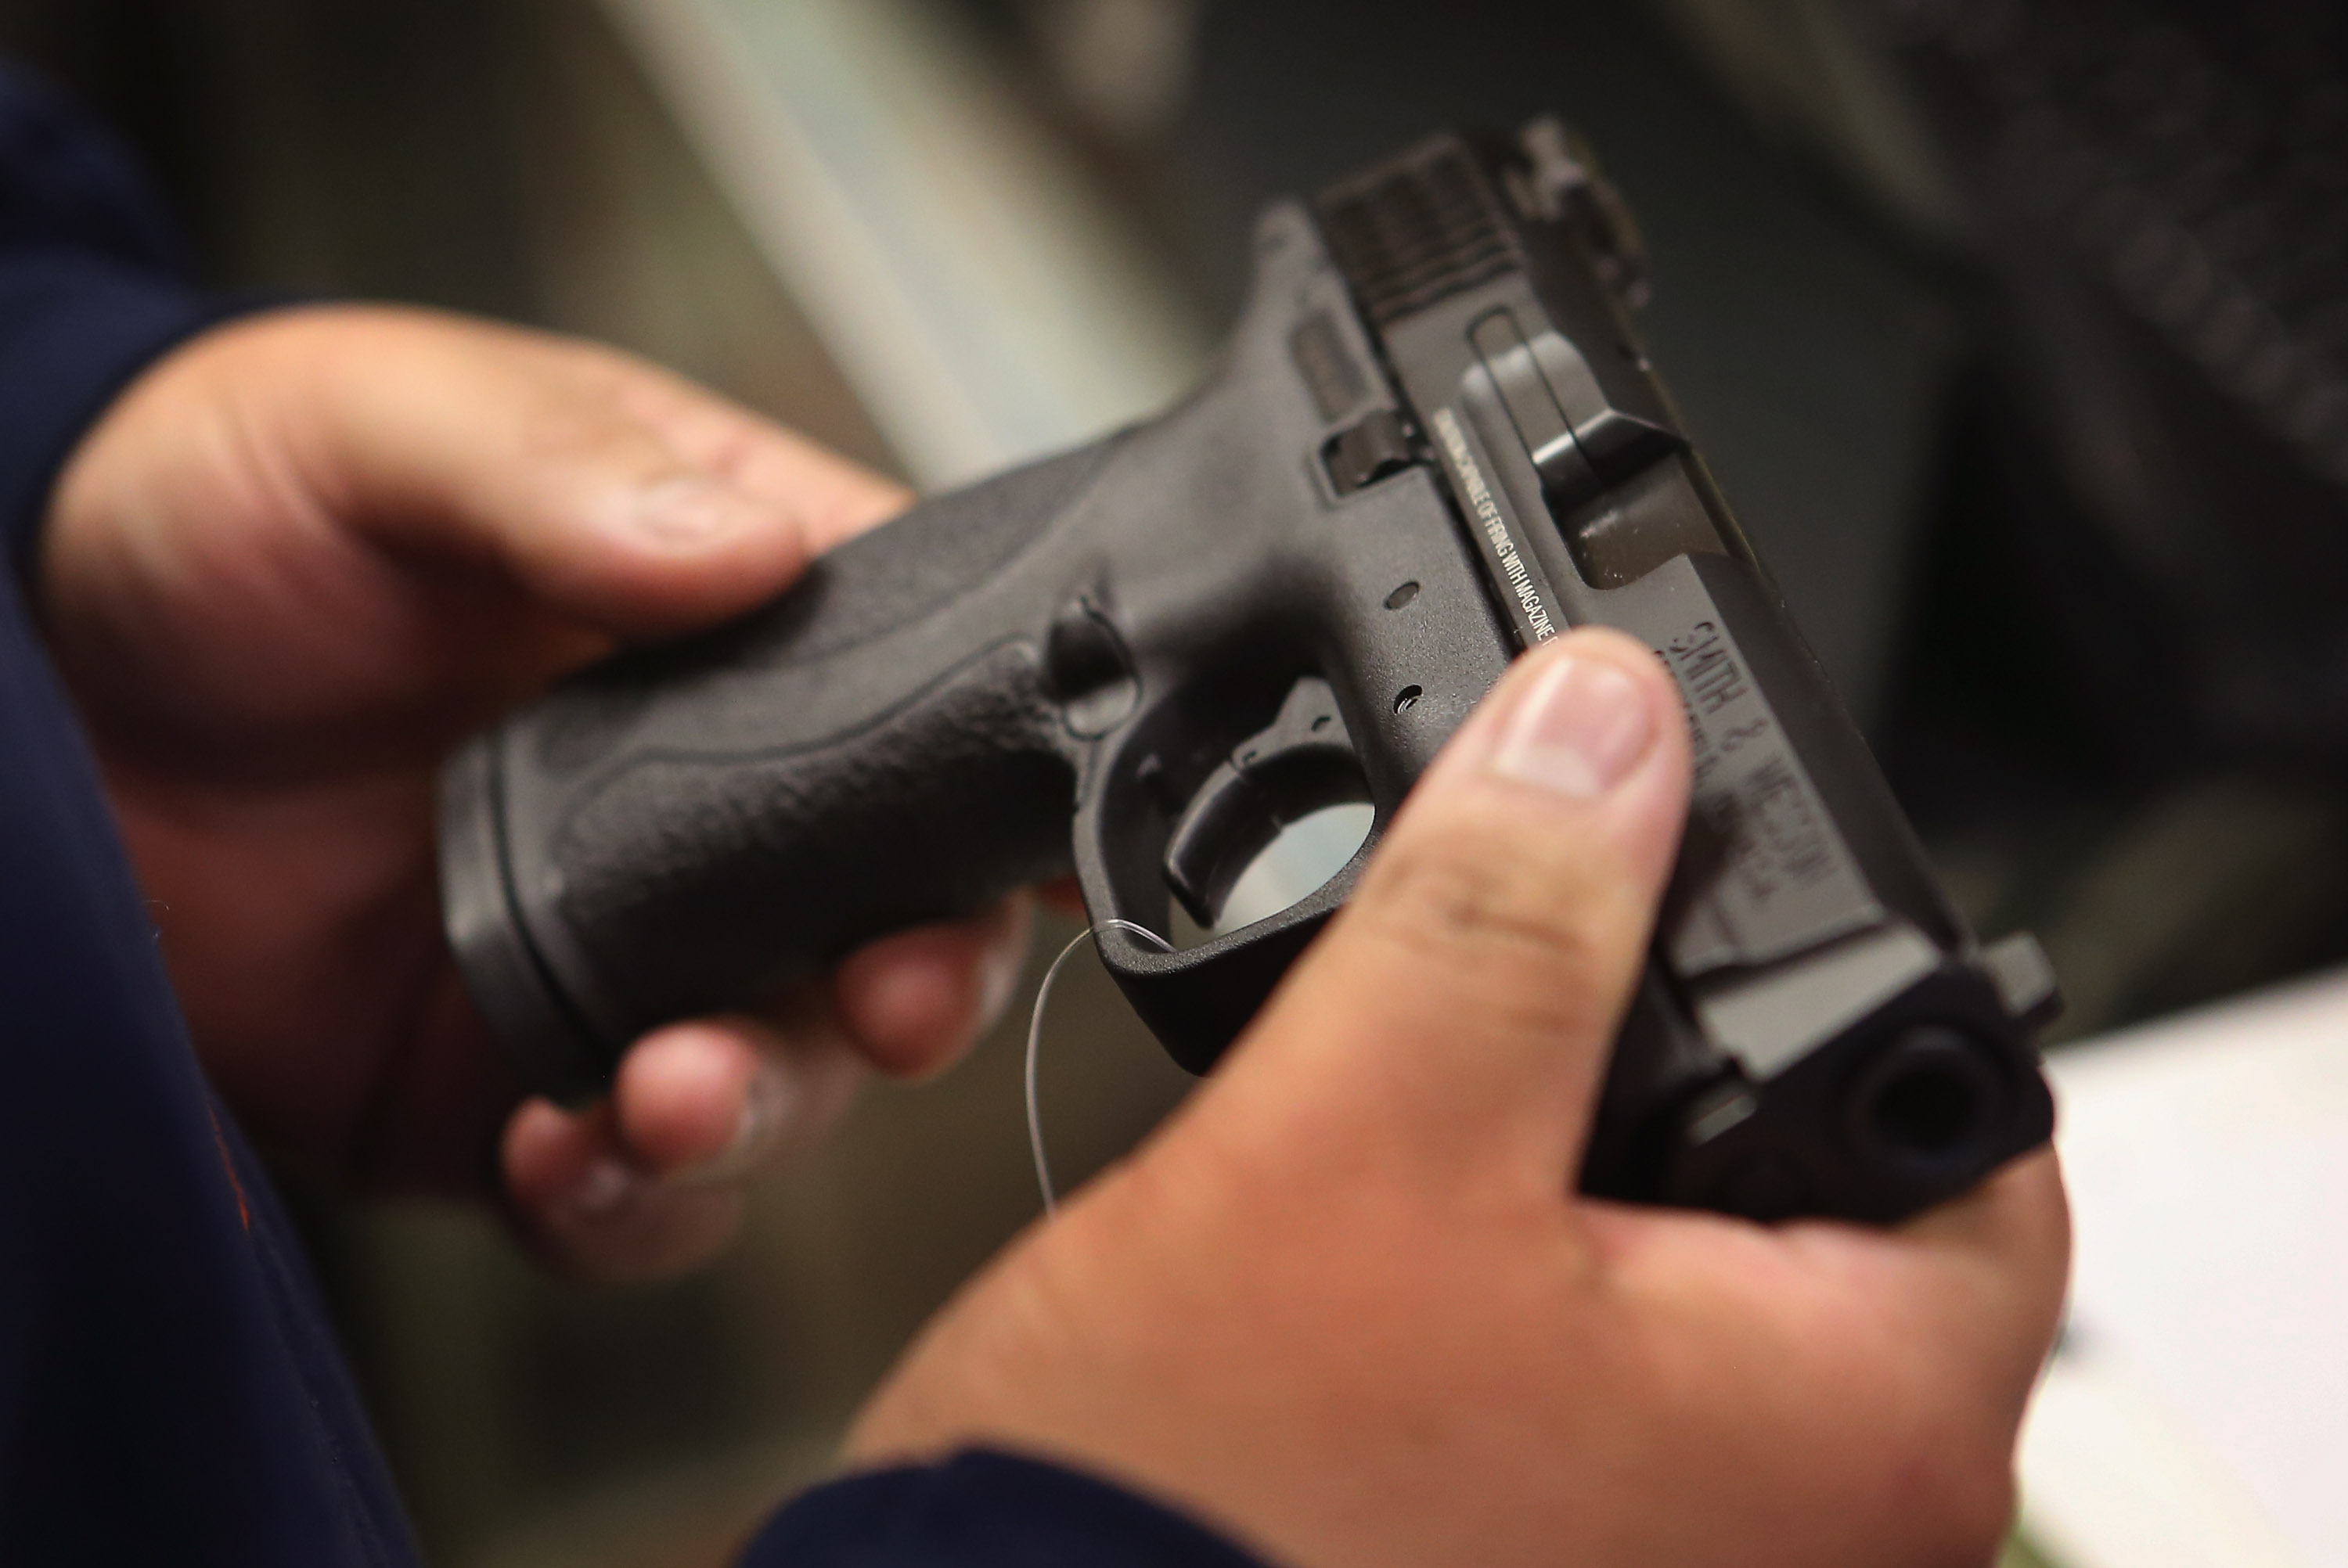Gun: (581, 103, 1942, 913)
